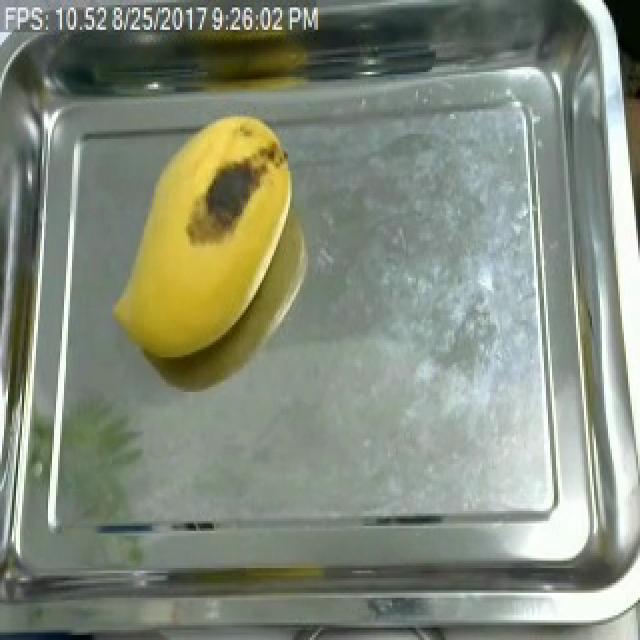fruit: (100, 104, 306, 375)
